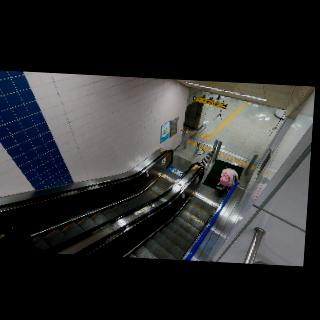anomaly: (215, 162, 243, 195)
normal: (0, 216, 48, 253)
